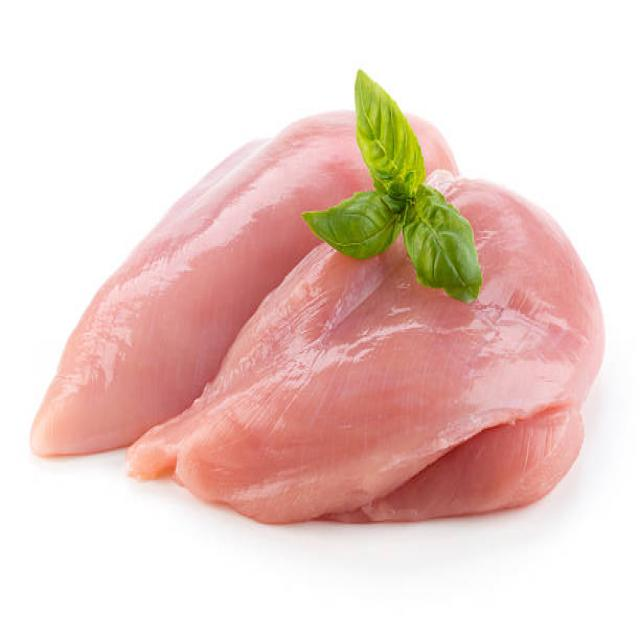Chicken: (267, 284, 577, 526), (80, 108, 239, 352)
